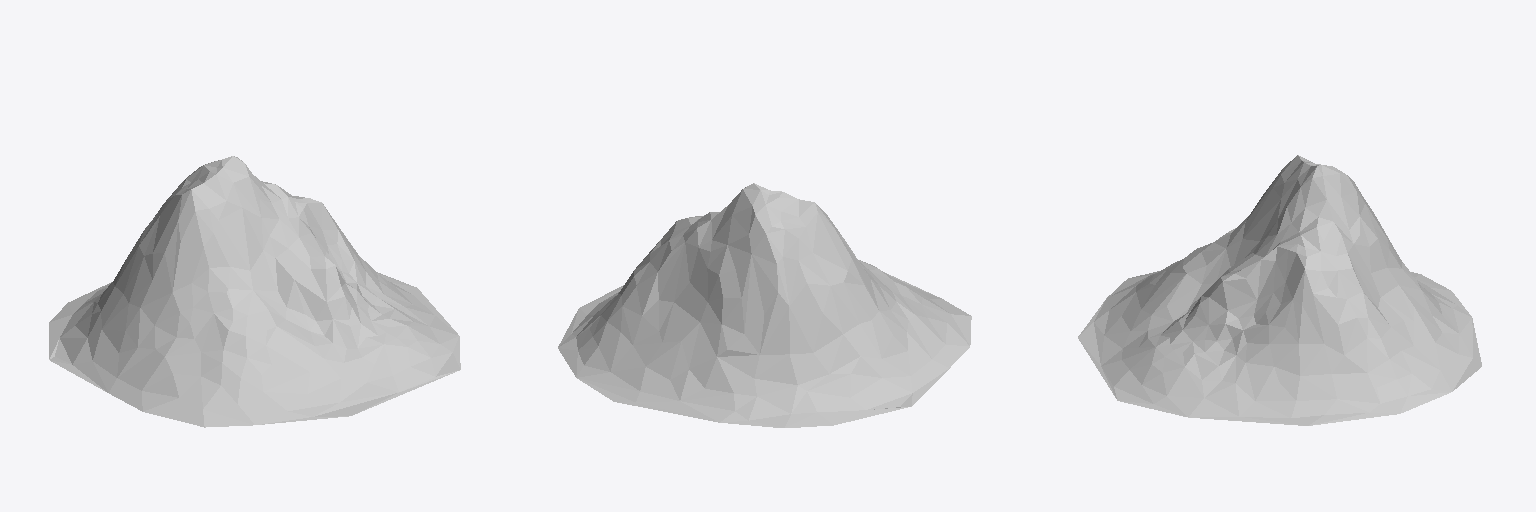
File: mountain.obj
3 views of the same model, side by side, from view 1: azimuth 30°, elevation 25°; view 2: azimuth 150°, elevation 25°; view 3: azimuth 270°, elevation 25° (orthographic).
Parts seen in each view (by area): view 1: rpgpp_lt_mountain_01_rpgpp_lt_mountain_01.001; view 2: rpgpp_lt_mountain_01_rpgpp_lt_mountain_01.001; view 3: rpgpp_lt_mountain_01_rpgpp_lt_mountain_01.001.
Part boxes in pixels (x1,y1,x2,y2): rpgpp_lt_mountain_01_rpgpp_lt_mountain_01.001: (49,156,460,427); rpgpp_lt_mountain_01_rpgpp_lt_mountain_01.001: (558,183,971,427); rpgpp_lt_mountain_01_rpgpp_lt_mountain_01.001: (1078,155,1481,425).
Size of the model in its own units: 166 by 79.53 by 166.